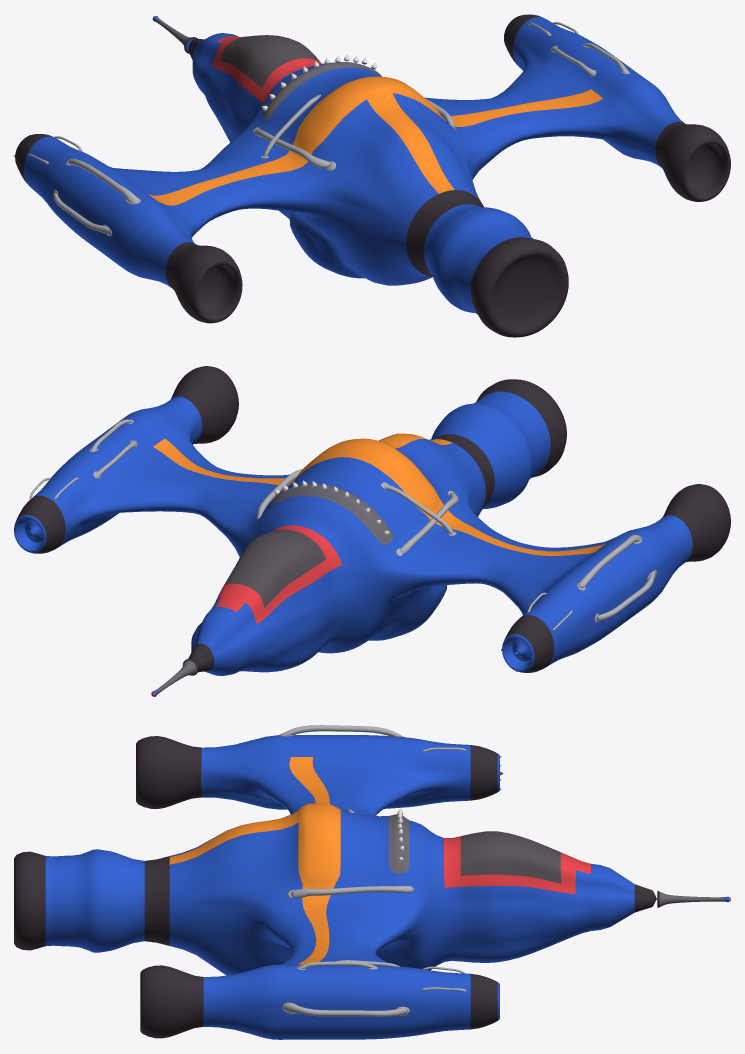
File: SpaceShip_VerzatileDev_model3D.fbx
The picture shows the model from 3 angles, top to bottom: view 1: azimuth 30°, elevation 25°; view 2: azimuth 150°, elevation 25°; view 3: azimuth 270°, elevation 25°; orthographic projection. The views are drawn at different scales.
Visible parts, largest first — view 1: SpaceShipBody; view 2: SpaceShipBody; view 3: SpaceShipBody.
Part boxes in pixels (box(x1,y1,x2,y2)): SpaceShipBody: box(14, 14, 730, 337); SpaceShipBody: box(14, 366, 730, 696); SpaceShipBody: box(14, 725, 730, 1039).
Bounding box in the file's own units: 219 × 70.76 × 251.
